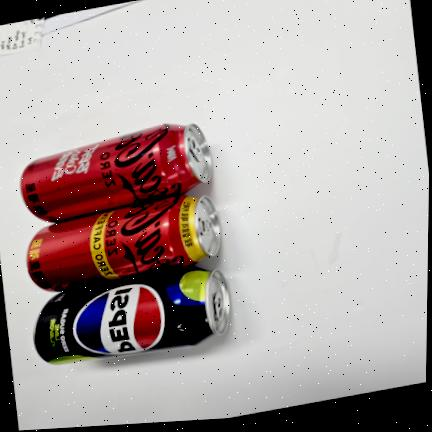can_coke_decaf: (26, 195, 220, 291)
can_coke_zero: (20, 123, 211, 222)
can_pepsi_zero: (33, 269, 229, 364)
